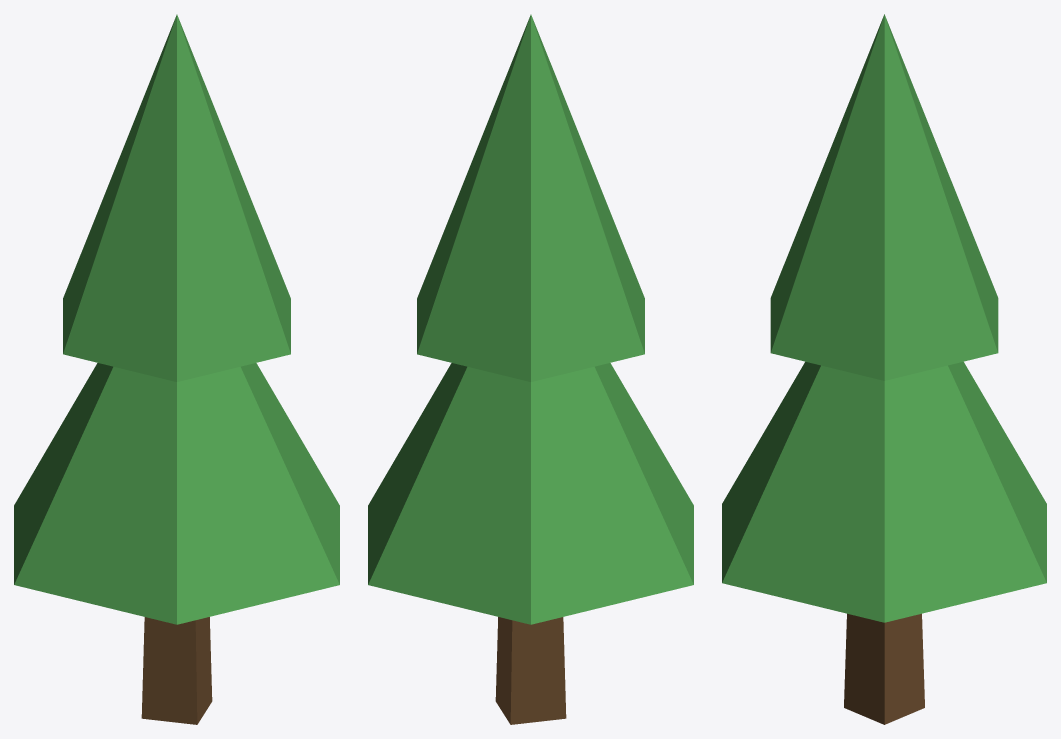
The model's file is treepine.obj.
3 renders of one model, left to right at view 1: azimuth 30°, elevation 25°; view 2: azimuth 150°, elevation 25°; view 3: azimuth 270°, elevation 25°, orthographic.
Size of the model in its own units: 1.2 by 2.45 by 1.04.
